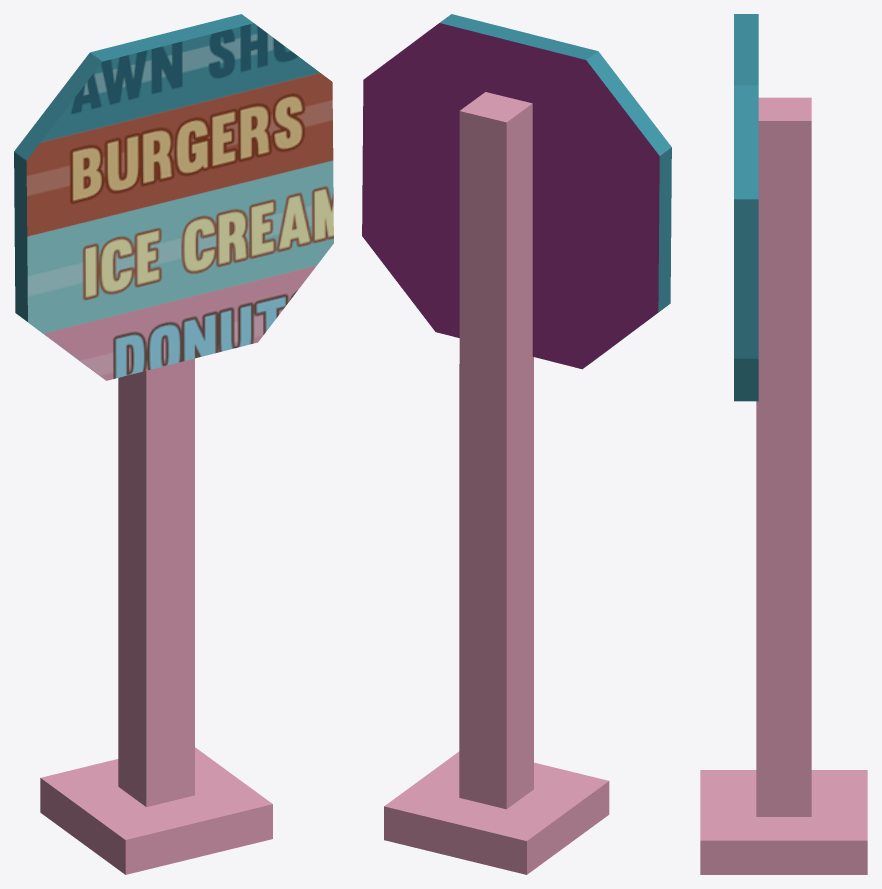
The model's file is Prop_Stop_Sign.fbx.
3 views of the same model, side by side, from view 1: azimuth 30°, elevation 25°; view 2: azimuth 150°, elevation 25°; view 3: azimuth 270°, elevation 25° (orthographic). The views are drawn at different scales.
Visible parts, largest first — view 1: Prop_Stop_Sign; view 2: Prop_Stop_Sign; view 3: Prop_Stop_Sign.
Boxes of the visible parts, left/top/right/bottom form: Prop_Stop_Sign: left=14, top=14, right=333, bottom=874; Prop_Stop_Sign: left=362, top=14, right=671, bottom=874; Prop_Stop_Sign: left=700, top=14, right=867, bottom=874.
Size of the model in its own units: 1.22 by 3.05 by 0.5853.
